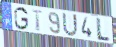4: (81, 17, 93, 39)
9: (47, 11, 61, 35)
G: (13, 6, 29, 31)
L: (96, 17, 111, 43)
T: (31, 9, 44, 33)
U: (61, 12, 79, 38)
